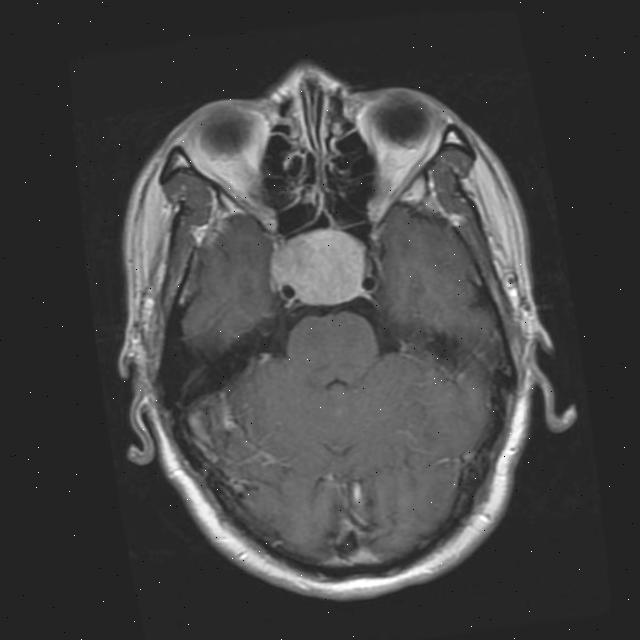Pituitary: (283, 220, 372, 310)
